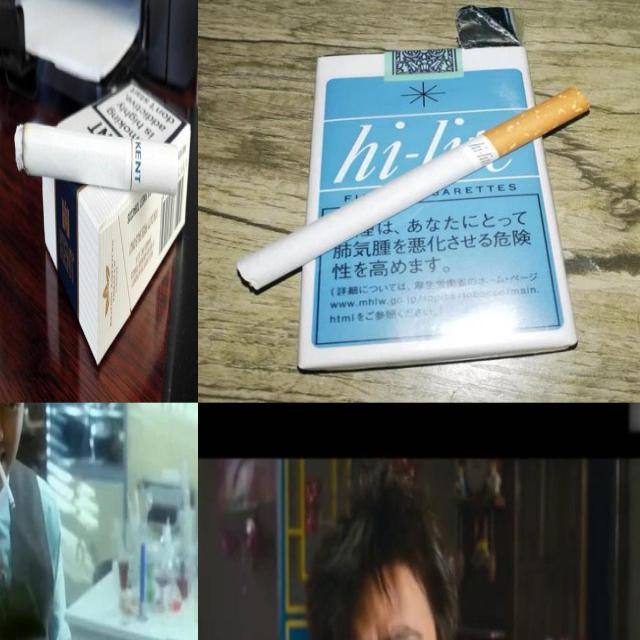smoking: (236, 87, 591, 290), (14, 122, 178, 196), (0, 457, 18, 515)
